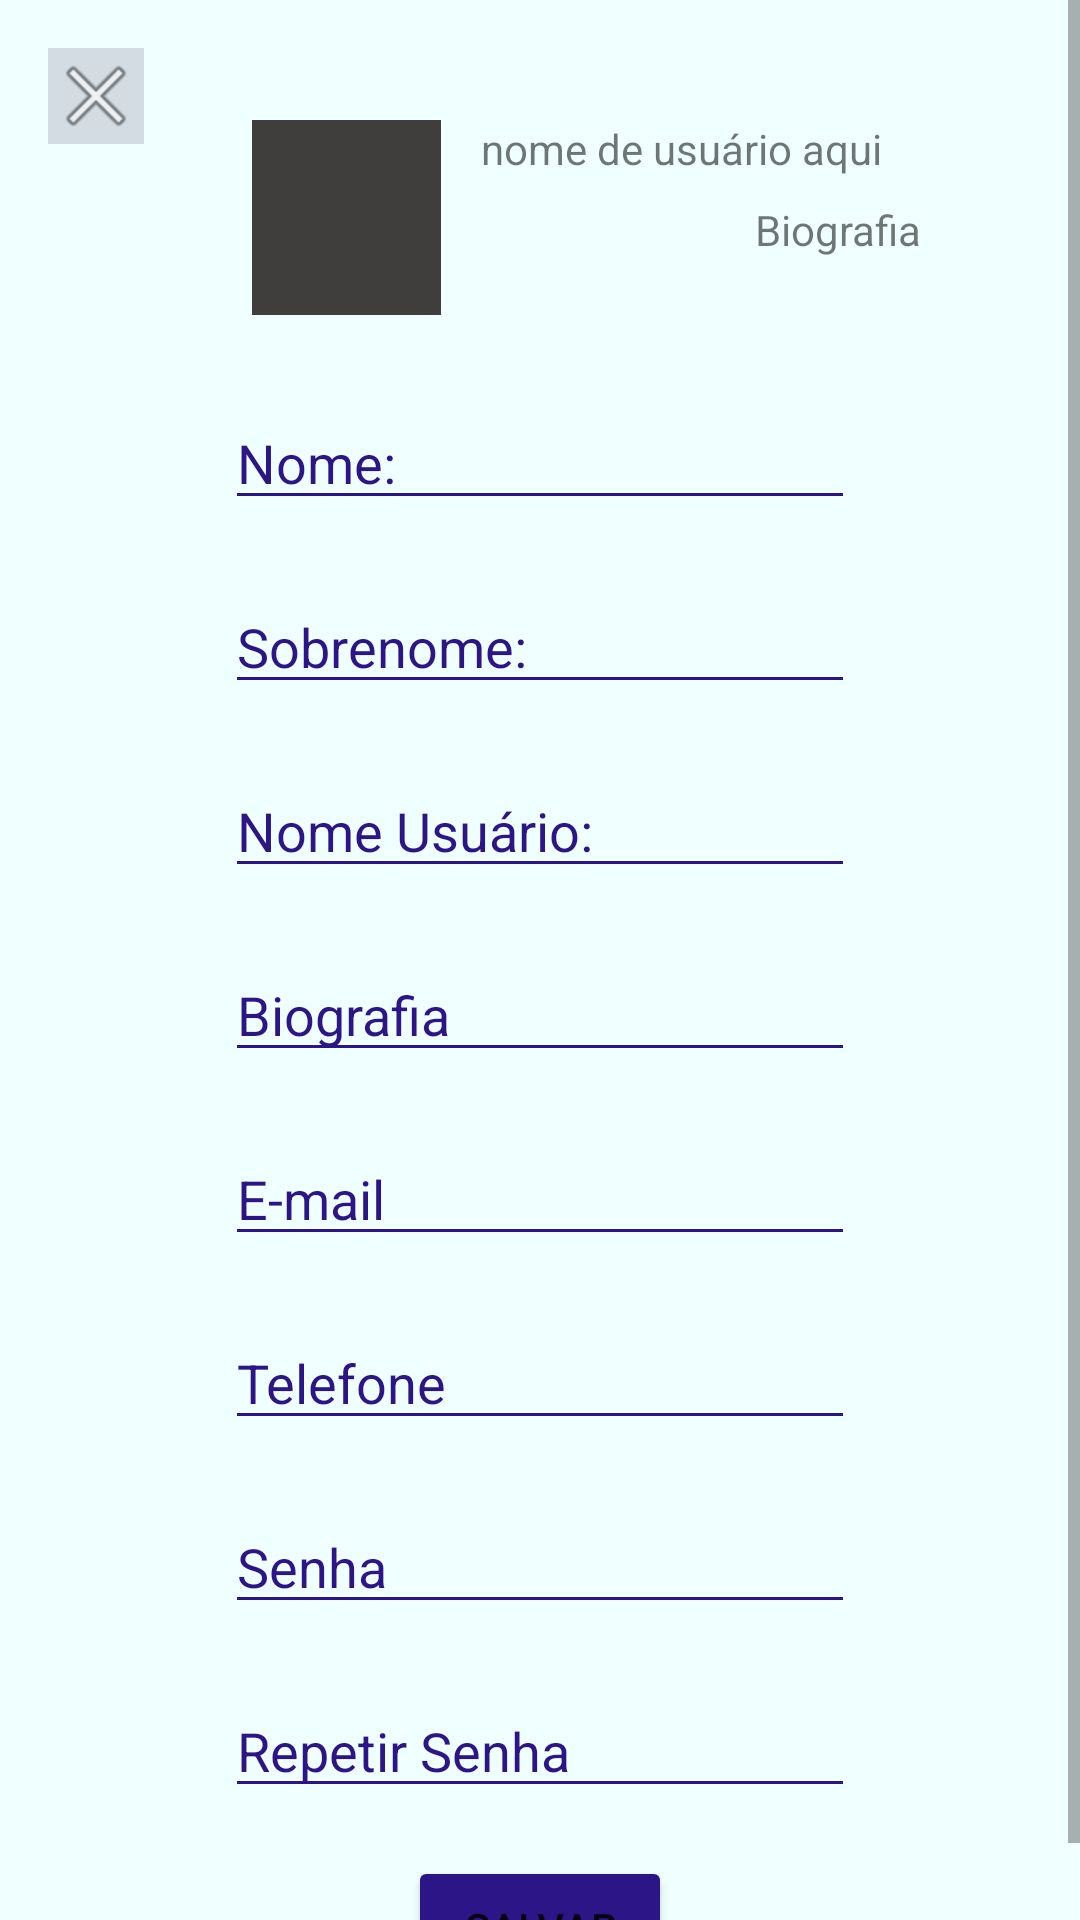

Icon bounding boxes for this 1080x1920 phone screenshot, format bbox=(x1, y1, x2, y2):
close clear cancel: bbox=(48, 48, 144, 144)
